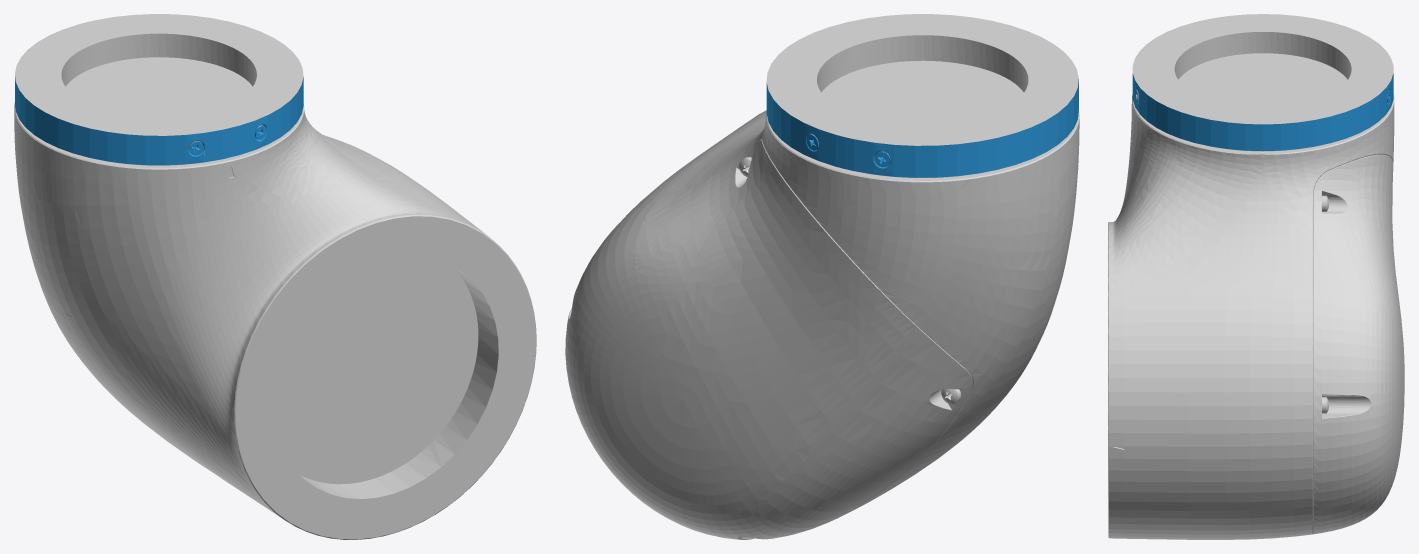
3 renders of one model, left to right at view 1: azimuth 30°, elevation 25°; view 2: azimuth 150°, elevation 25°; view 3: azimuth 270°, elevation 25°, orthographic. The views are drawn at different scales.
Visible parts, largest first — view 1: Link3; view 2: Link3; view 3: Link3.
Boxes of the visible parts, x1,y1,x2,y2 form: Link3: [14, 14, 536, 539]; Link3: [565, 14, 1079, 539]; Link3: [1108, 14, 1404, 539].
Size of the model in its own units: 0.1487 by 0.1005 by 0.1472.
